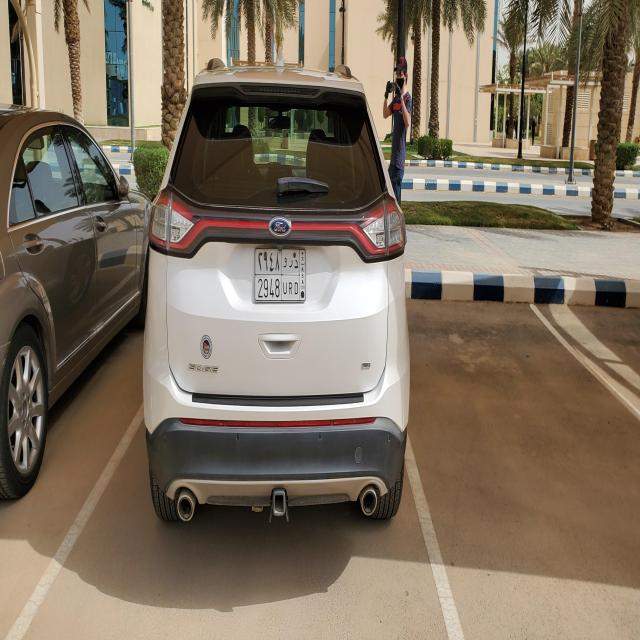license_plate: (254, 246, 305, 301)
